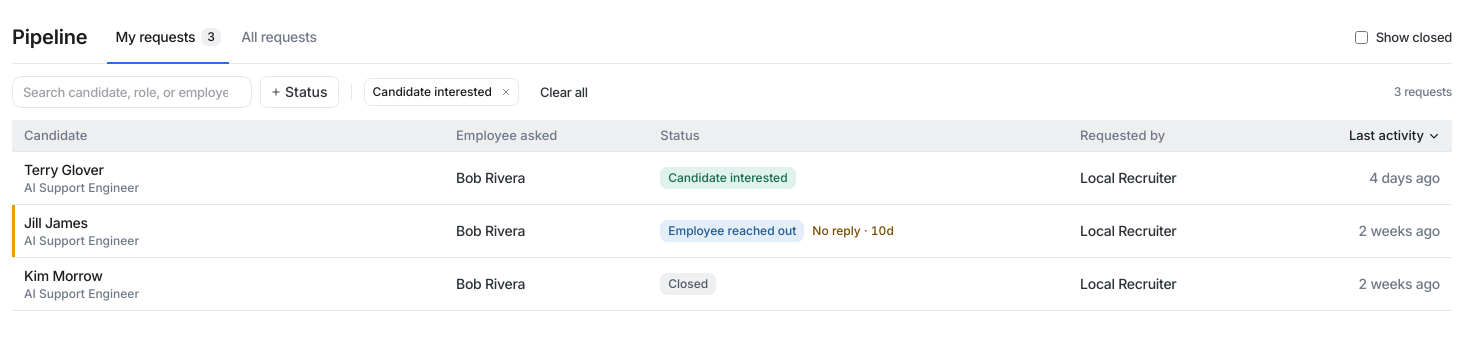
Scenario: PipelinePage › offers the six statuses in the Status picker and mirrors a deep link as a chip
This screenshot has width=1464, height=354.
Expected: the table is shown, [12,120,1452,311]
Expected: the button named "Remove Candidate interested" is shown, [494,79,518,105]
Click the button with aria-label "Add status filter": (299, 92) [260,76,339,108]
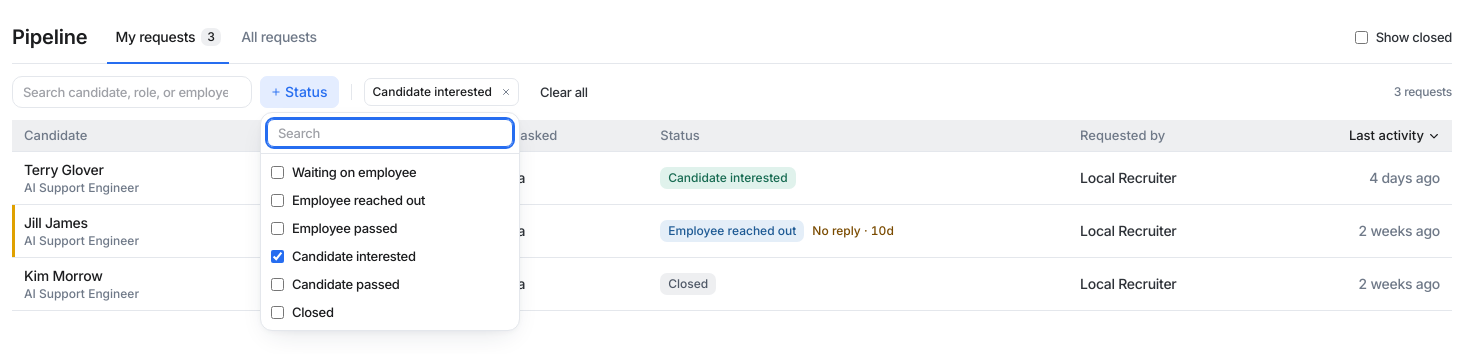
Expected: the options read "Waiting on employee", "Employee reached out", "Employee passed", "Candidate interested", "Candidate passed", "Closed", in this order, [271,164,416,180]; [271,192,425,208]; [271,220,397,236]; [271,248,416,264]; [271,276,400,292]; [271,304,334,320]
